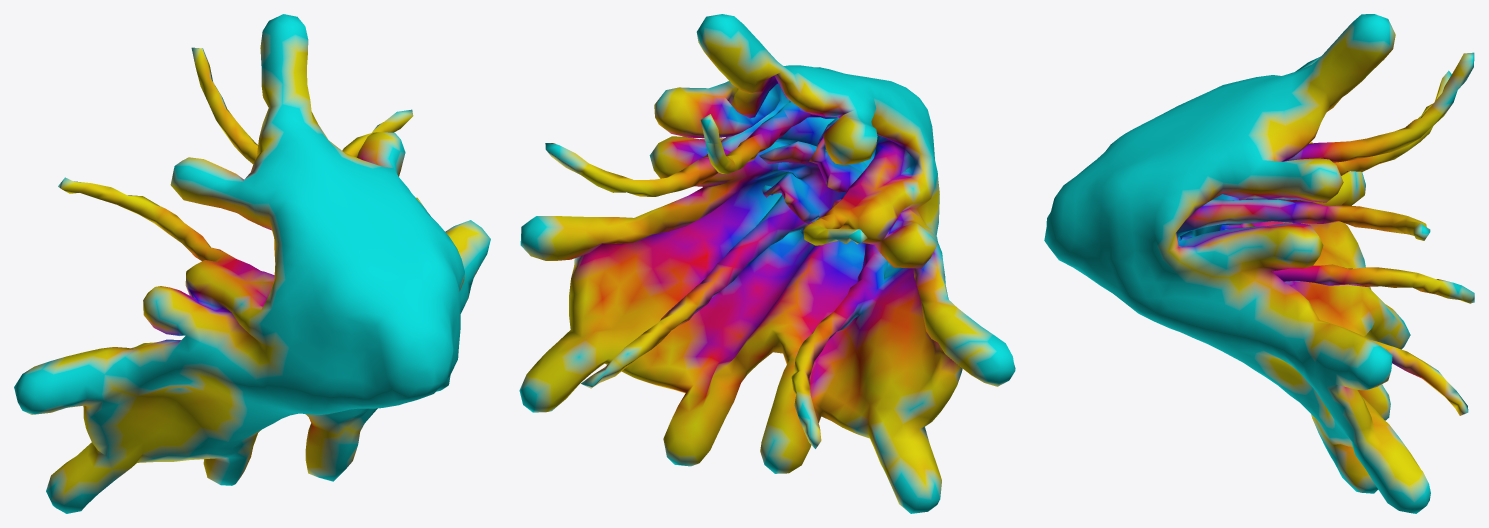
The model's file is jelly_0.gltf.
3 views of the same model, side by side, from view 1: azimuth 30°, elevation 25°; view 2: azimuth 150°, elevation 25°; view 3: azimuth 270°, elevation 25° (orthographic). The views are drawn at different scales.
Parts seen in each view (by area): view 1: jellysquid3; view 2: jellysquid3; view 3: jellysquid3.
Part boxes in pixels (x1,y1,x2,y2): jellysquid3: (14, 14, 490, 513); jellysquid3: (519, 14, 1015, 513); jellysquid3: (1044, 14, 1474, 513).
Bounding box in the file's own units: 14.41 × 13.3 × 11.33.
